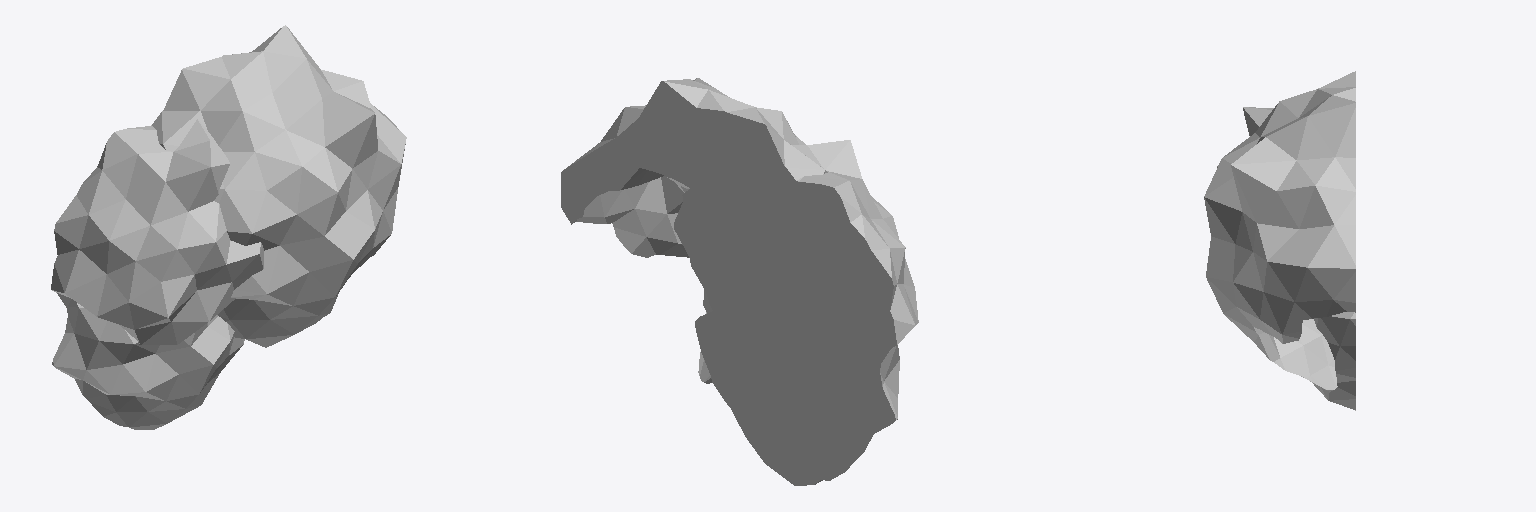
The model's file is tinker_7.obj.
3 views of the same model, side by side, from view 1: azimuth 30°, elevation 25°; view 2: azimuth 150°, elevation 25°; view 3: azimuth 270°, elevation 25° (orthographic).
Parts seen in each view (by area): view 1: obj_0; view 2: obj_0; view 3: obj_0.
Part boxes in pixels (x1,y1,x2,y2): obj_0: (51, 25, 406, 429); obj_0: (561, 78, 918, 485); obj_0: (1204, 71, 1355, 410).
Size of the model in its own units: 92.54 by 97.29 by 36.